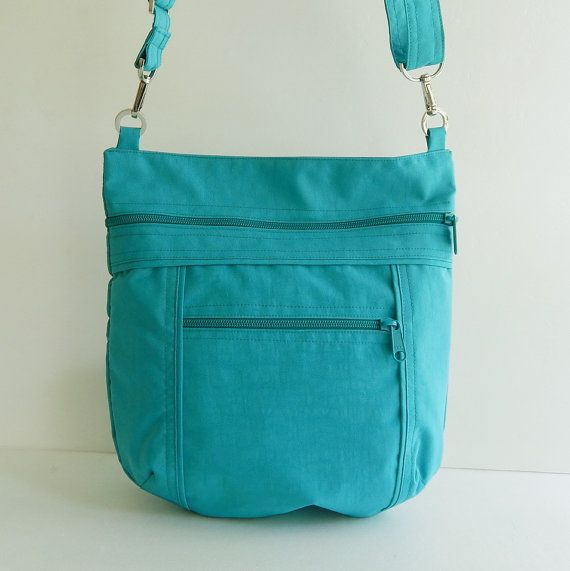nylon: (102, 1, 458, 520)
